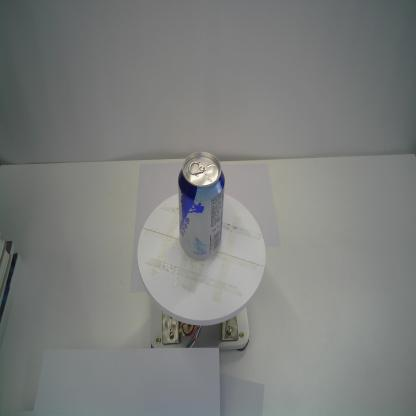Alcohol: (174, 149, 226, 262)
